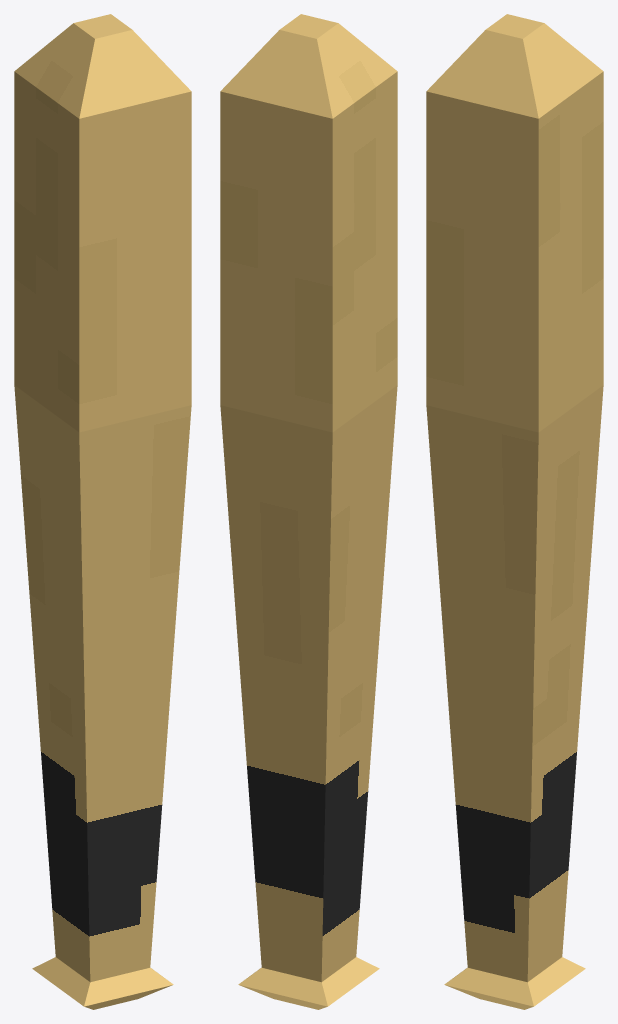
The model's file is Bat.gltf.
3 renders of one model, left to right at view 1: azimuth 30°, elevation 25°; view 2: azimuth 150°, elevation 25°; view 3: azimuth 330°, elevation 25°, orthographic.
Visible parts, largest first — view 1: cuboid; view 2: cuboid; view 3: cuboid.
Part boxes in pixels (<box>): cuboid: <box>14,14,191,1009</box>; cuboid: <box>220,14,397,1009</box>; cuboid: <box>426,14,603,1009</box>.
Size of the model in its own units: 0.1875 by 1.54 by 0.1875.
Materials: 1 (1 with a texture image).
